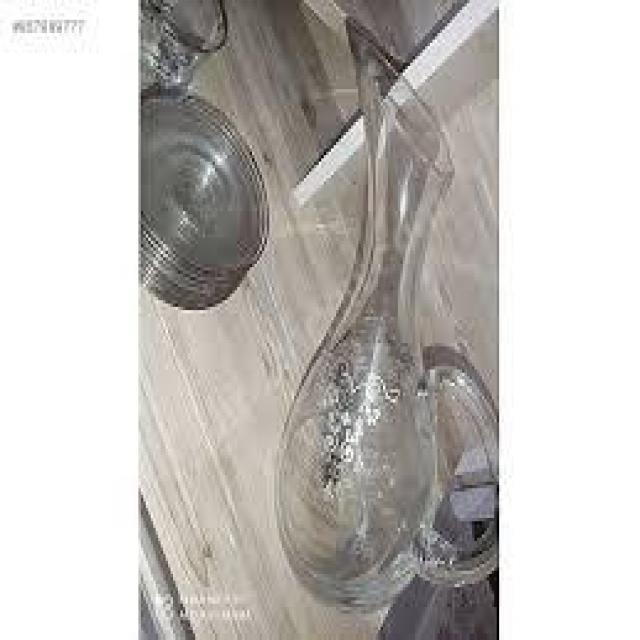non-organic waste: (272, 15, 511, 615), (137, 0, 273, 310)
